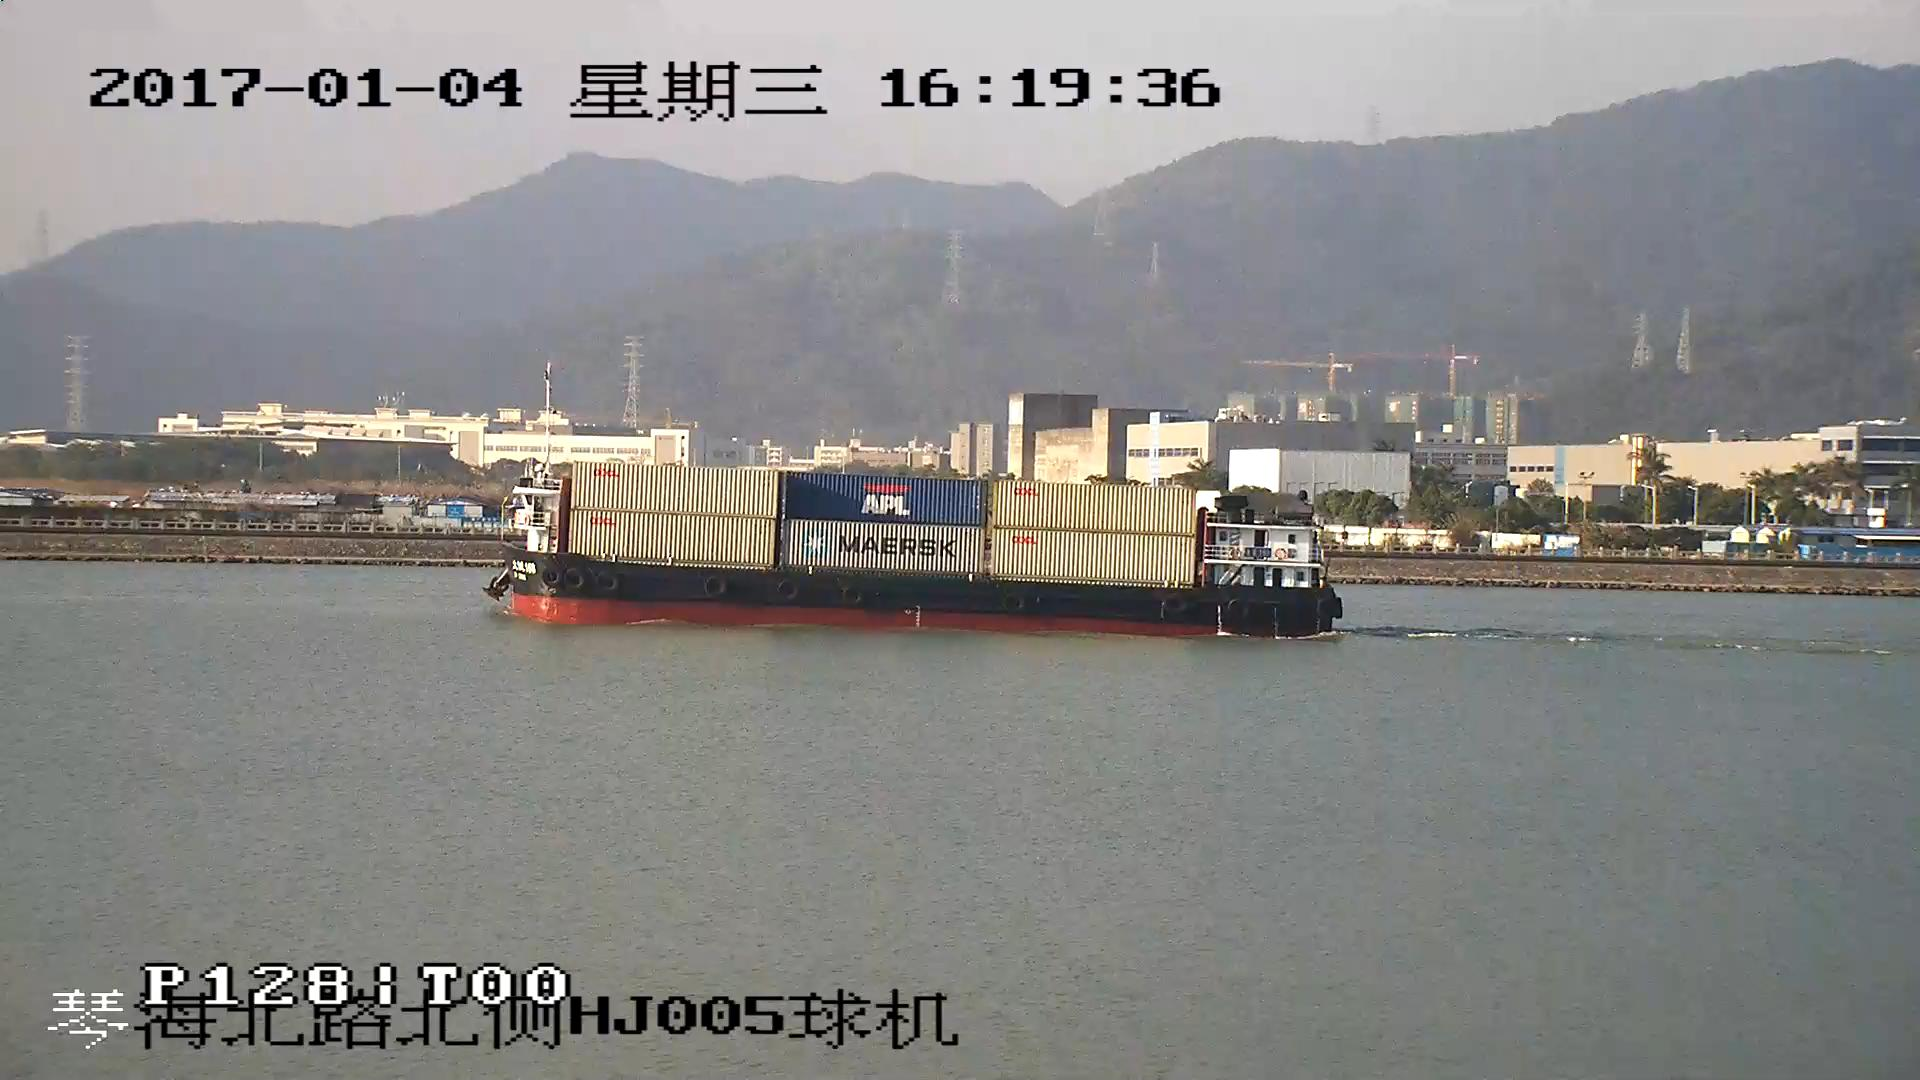container ship: (484, 458, 1344, 636)
